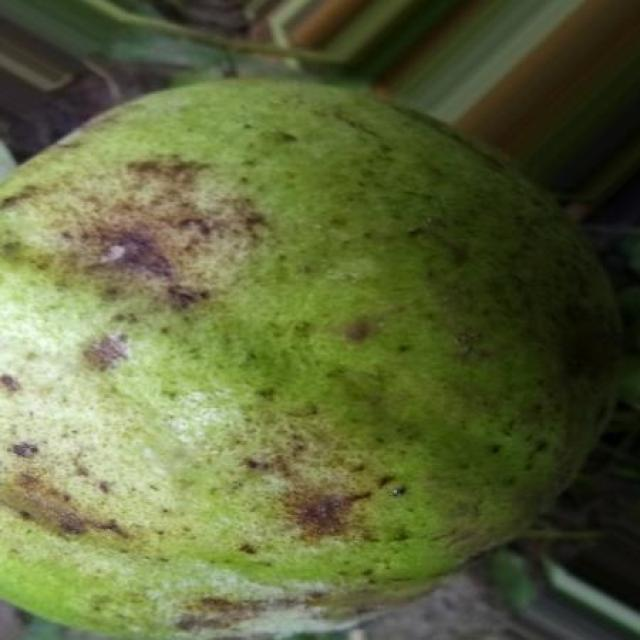Phytopthora: (0, 80, 616, 640)
